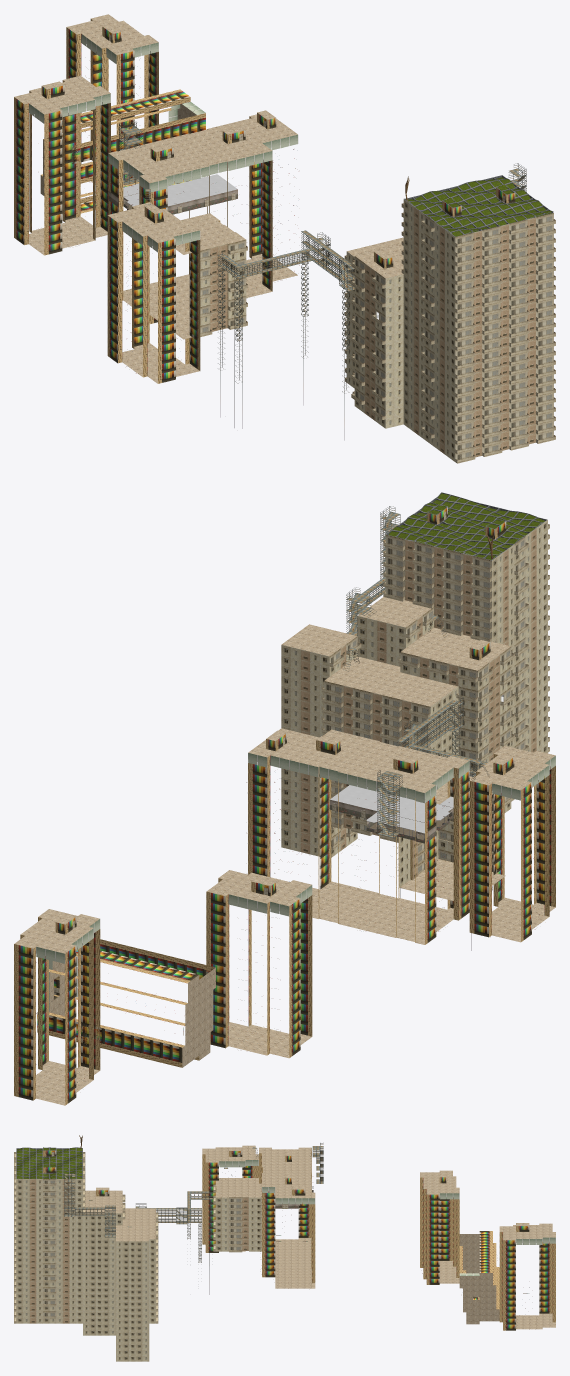
Rendered from grasstown.obj.
3 views of the same model, one above another, from view 1: azimuth 30°, elevation 25°; view 2: azimuth 150°, elevation 25°; view 3: azimuth 270°, elevation 25° (orthographic). The views are drawn at different scales.
Visible parts, largest first — view 1: Объект_Плоскость_1, Объект_Плоскость.2_2, Объект_Плоскость.22, Объект_Плоскость.4_2, Объект_Плоскость.3_3, Объект_Плоскость.30, Объект_Плоскость.5_1, Объект_Плоскость.10, Ноль_объект.9, Объект_Плоскость.17, Ноль_объект.9_1, Объект_Плоскость.18 (+5 smaller); view 2: Объект_Плоскость.2_2, Объект_Плоскость.5_1, Объект_Плоскость.3_3, Объект_Плоскость.22, Объект_Плоскость.4_2, Объект_Плоскость.10, Объект_Плоскость.18, Объект_Плоскость.19, Объект_Плоскость.24, Объект_Плоскость.17, Объект_Плоскость.23, Объект_Плоскость.30 (+14 smaller); view 3: Объект_Плоскость.2_2, Объект_Плоскость.13, Объект_Плоскость.22, Объект_Плоскость.5_1, Объект_Плоскость.24, Объект_Плоскость.10, Объект_Плоскость.3_3, Объект_Плоскость.18, Объект_Плоскость.23, Объект_Плоскость.17, Объект_Плоскость.18_1, Ноль_объект.9 (+7 smaller).
Boxes of the visible parts, x1,y1,x2,y2 form: Объект_Плоскость_1: [455, 213, 555, 463]; Объект_Плоскость.2_2: [108, 110, 299, 339]; Объект_Плоскость.22: [14, 75, 110, 255]; Объект_Плоскость.4_2: [403, 199, 455, 461]; Объект_Плоскость.3_3: [107, 202, 200, 383]; Объект_Плоскость.30: [351, 256, 403, 428]; Объект_Плоскость.5_1: [66, 14, 158, 187]; Объект_Плоскость.10: [40, 89, 205, 213]; Ноль_объект.9: [145, 189, 354, 440]; Объект_Плоскость.17: [404, 177, 553, 236]; Ноль_объект.9_1: [145, 189, 354, 438]; Объект_Плоскость.18: [347, 237, 403, 278]; Объект_Плоскость.2_2: [246, 728, 505, 944]; Объект_Плоскость.5_1: [14, 909, 100, 1105]; Объект_Плоскость.3_3: [469, 746, 555, 942]; Объект_Плоскость.22: [206, 870, 312, 1058]; Объект_Плоскость.4_2: [492, 520, 547, 753]; Объект_Плоскость.10: [37, 939, 215, 1067]; Объект_Плоскость.18: [281, 597, 510, 706]; Объект_Плоскость.19: [383, 535, 491, 622]; Объект_Плоскость.24: [281, 665, 357, 857]; Объект_Плоскость.17: [388, 492, 545, 560]; Объект_Плоскость.23: [357, 607, 448, 683]; Объект_Плоскость.30: [478, 647, 514, 812]; Объект_Плоскость.2_2: [213, 1147, 315, 1288]; Объект_Плоскость.13: [16, 1179, 82, 1323]; Объект_Плоскость.22: [420, 1170, 459, 1284]; Объект_Плоскость.5_1: [499, 1223, 555, 1330]; Объект_Плоскость.24: [116, 1253, 149, 1361]; Объект_Плоскость.10: [459, 1231, 499, 1324]; Объект_Плоскость.3_3: [202, 1145, 258, 1252]; Объект_Плоскость.18: [85, 1187, 155, 1241]; Объект_Плоскость.23: [83, 1203, 125, 1275]; Объект_Плоскость.17: [16, 1147, 82, 1178]; Объект_Плоскость.18_1: [83, 1275, 115, 1323]; Ноль_объект.9: [135, 1147, 258, 1294].
Size of what is drawn, in the model's own units: 9180 by 8425 by 22038.
